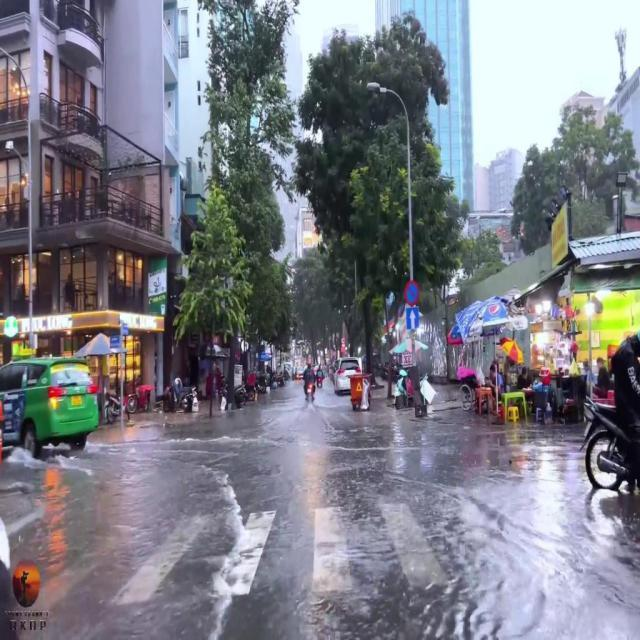131a-cam-do-xe: (405, 281, 419, 305)
407a-duong-mot-chieu: (406, 308, 420, 328)
